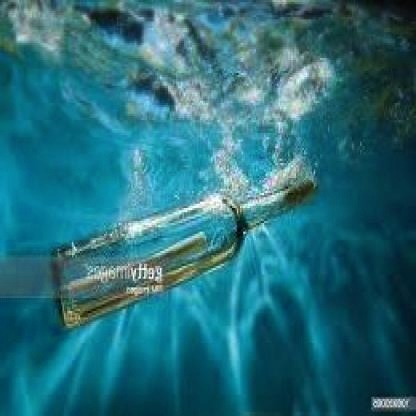gbottle: (53, 171, 315, 334)
